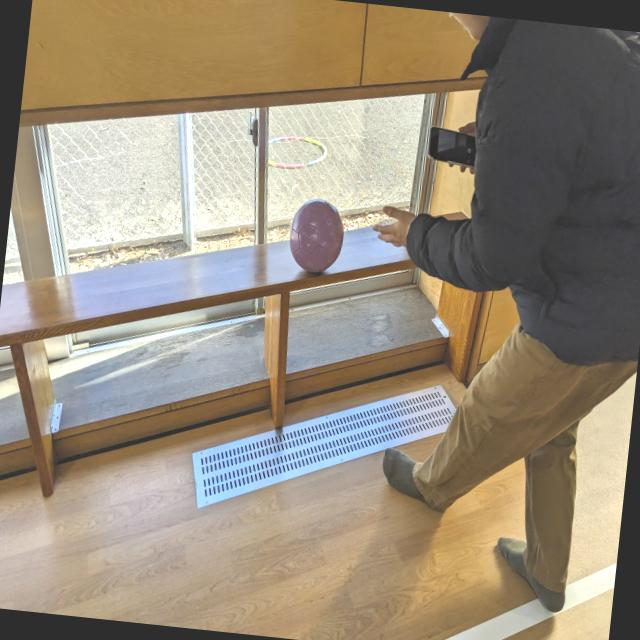purple_ball: (285, 194, 348, 276)
